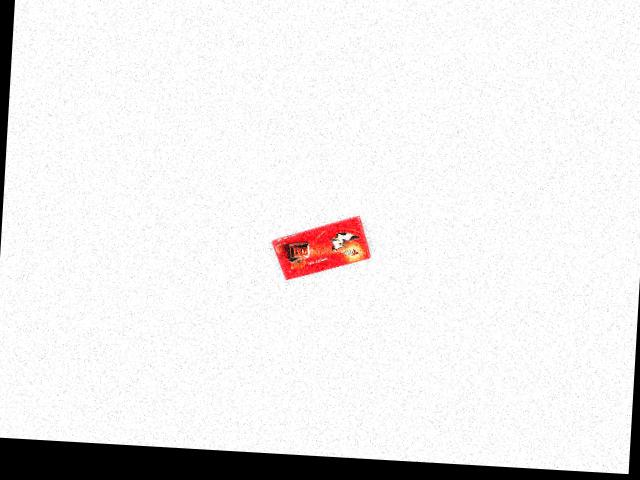chocolate: (268, 210, 370, 286)
